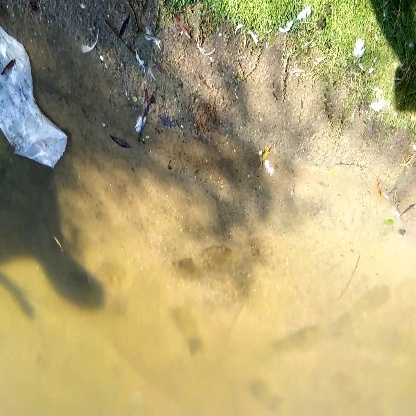plastic-bag: (1, 24, 68, 169)
